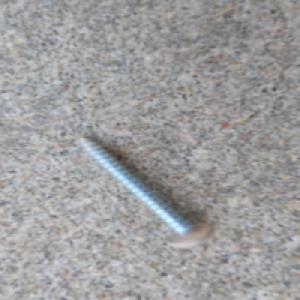Screw: (69, 130, 218, 251)
